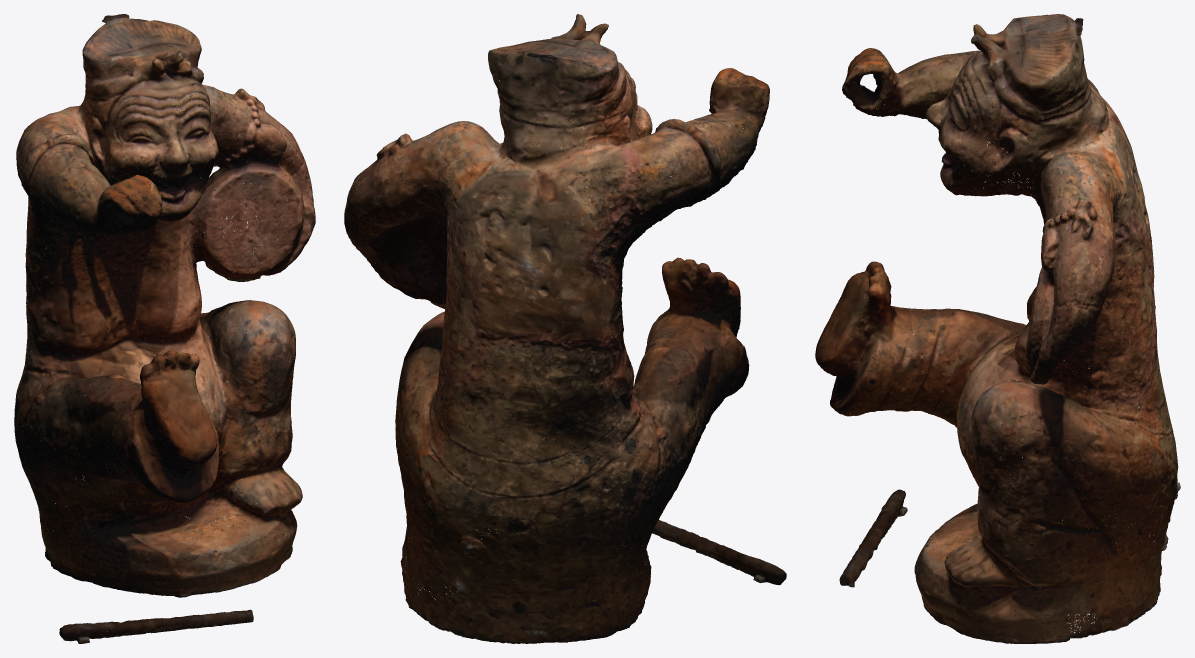
The model's file is storyteller.glb.
3 renders of one model, left to right at view 1: azimuth 30°, elevation 25°; view 2: azimuth 150°, elevation 25°; view 3: azimuth 270°, elevation 25°, orthographic. The views are drawn at different scales.
Visible parts, largest first — view 1: mesh_22, mesh_21, mesh_16, mesh_0, mesh_8, mesh_20, mesh_17, mesh_14, mesh_19, mesh_11, mesh_23, mesh_18 (+13 smaller); view 2: mesh_5, mesh_8, mesh_7, mesh_12, mesh_3, mesh_9, mesh_17, mesh_16, mesh_23, mesh_4, mesh_6, mesh_15 (+13 smaller); view 3: mesh_10, mesh_21, mesh_23, mesh_20, mesh_3, mesh_2, mesh_13, mesh_4, mesh_1, mesh_5, mesh_14, mesh_0 (+12 smaller).
Part boxes in pixels (x1=…): mesh_22: x1=60, y1=97, x2=312, y2=622; mesh_21: x1=46, y1=389, x2=302, y2=640; mesh_16: x1=15, y1=88, x2=294, y2=487; mesh_0: x1=23, y1=82, x2=275, y2=495; mesh_8: x1=20, y1=83, x2=256, y2=352; mesh_20: x1=45, y1=14, x2=294, y2=597; mesh_17: x1=23, y1=139, x2=217, y2=501; mesh_14: x1=27, y1=22, x2=279, y2=593; mesh_19: x1=32, y1=116, x2=208, y2=476; mesh_11: x1=41, y1=87, x2=288, y2=593; mesh_23: x1=110, y1=91, x2=315, y2=446; mesh_18: x1=42, y1=115, x2=219, y2=489; mesh_5: x1=396, y1=145, x2=720, y2=548; mesh_8: x1=423, y1=81, x2=747, y2=534; mesh_7: x1=417, y1=69, x2=685, y2=520; mesh_12: x1=400, y1=495, x2=786, y2=642; mesh_3: x1=353, y1=17, x2=739, y2=421; mesh_9: x1=383, y1=121, x2=699, y2=527; mesh_17: x1=415, y1=109, x2=749, y2=535; mesh_16: x1=344, y1=122, x2=697, y2=538; mesh_23: x1=354, y1=88, x2=532, y2=420; mesh_4: x1=437, y1=112, x2=720, y2=552; mesh_6: x1=413, y1=122, x2=702, y2=552; mesh_15: x1=437, y1=417, x2=704, y2=643; mesh_10: x1=1010, y1=116, x2=1166, y2=561; mesh_21: x1=842, y1=430, x2=1158, y2=643; mesh_23: x1=971, y1=90, x2=1154, y2=531; mesh_20: x1=844, y1=14, x2=1116, y2=643; mesh_3: x1=830, y1=37, x2=1154, y2=428; mesh_2: x1=839, y1=93, x2=1013, y2=425; mesh_13: x1=842, y1=477, x2=1180, y2=642; mesh_4: x1=992, y1=89, x2=1155, y2=426; mesh_1: x1=848, y1=50, x2=992, y2=478; mesh_5: x1=1022, y1=92, x2=1178, y2=529; mesh_14: x1=953, y1=24, x2=1160, y2=643; mesh_0: x1=910, y1=77, x2=1031, y2=486.
Bounding box in the file's own units: 18.87 × 28.95 × 17.39.
1 material, 1 textured.
